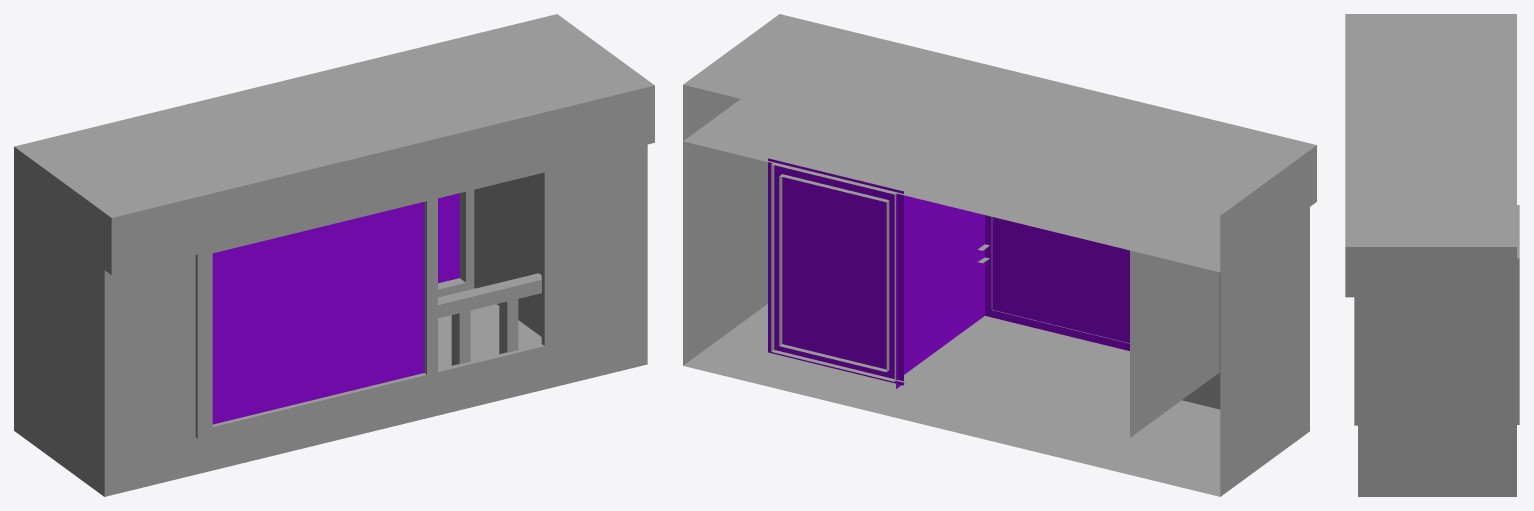
The picture shows the model from 3 angles, left to right: view 1: azimuth 30°, elevation 25°; view 2: azimuth 150°, elevation 25°; view 3: azimuth 270°, elevation 25°; orthographic projection. The views are drawn at different scales.
Visible parts, largest first — view 1: Cladding, Glass, Steel, Floor; view 2: Cladding, Glass, Floor, Steel; view 3: Cladding, Steel.
Boxes of the visible parts, bbox=[...] form: Cladding: bbox=[14, 14, 654, 496]; Glass: bbox=[212, 193, 459, 424]; Steel: bbox=[195, 166, 559, 438]; Floor: bbox=[438, 288, 541, 368]; Cladding: bbox=[683, 14, 1316, 496]; Glass: bbox=[768, 158, 1129, 388]; Floor: bbox=[773, 316, 1129, 437]; Steel: bbox=[771, 163, 1129, 381]; Cladding: bbox=[1345, 14, 1516, 496]; Steel: bbox=[1354, 205, 1519, 425].
Size of the model in its own units: 6 by 3 by 1.9.
